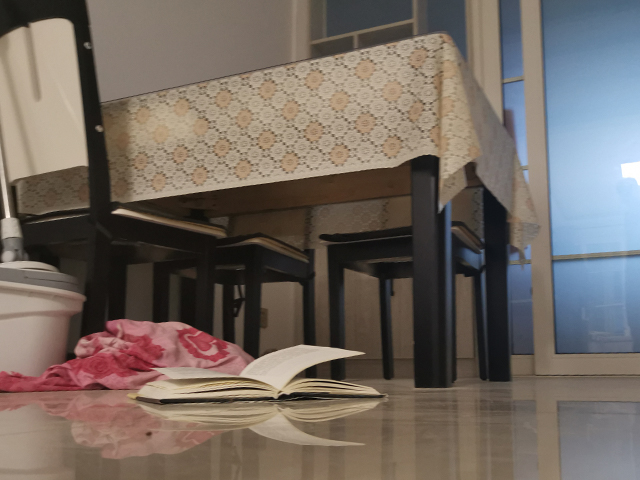book: (122, 344, 388, 407)
stool: (1, 1, 229, 341), (327, 224, 486, 382)
table: (1, 29, 519, 391)
